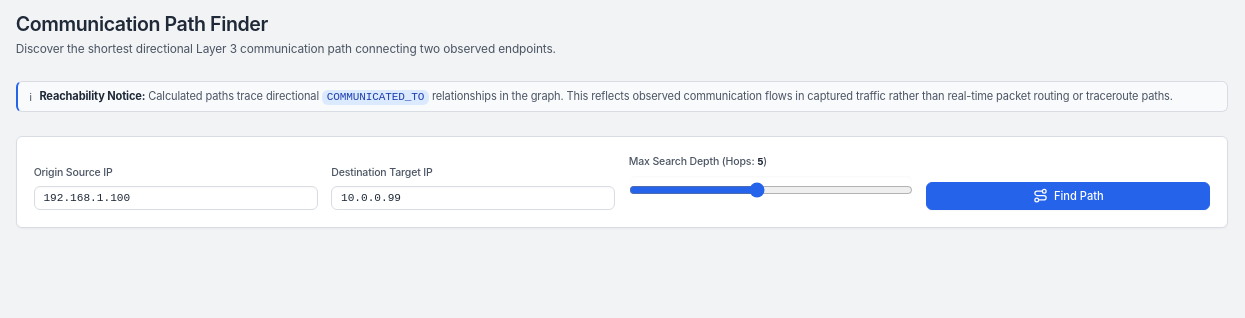
Scenario: PathFinderPage Component › handles 404 no communication path error gracefully
Click the button "Find Path" at (1068, 196), box [926,182,1210,210]
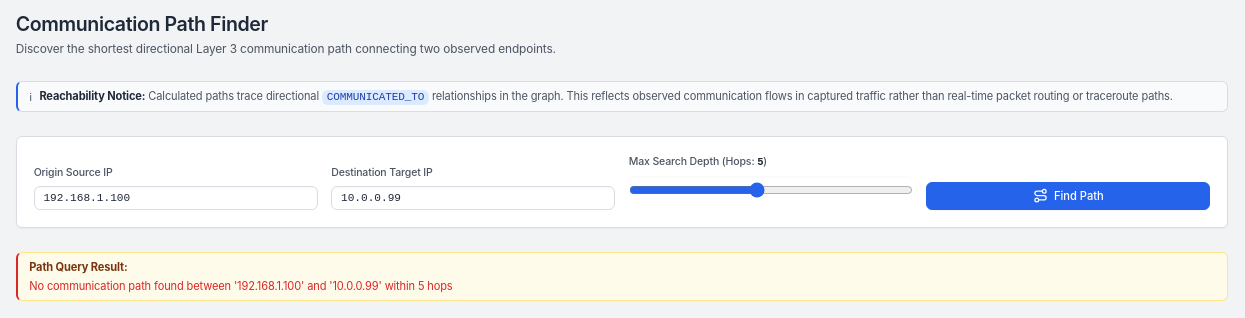
Expected: the text "No communication path found between '192.168.1.100' and '10.0.0.99' within 5 hops" is shown, [29,279,452,293]
